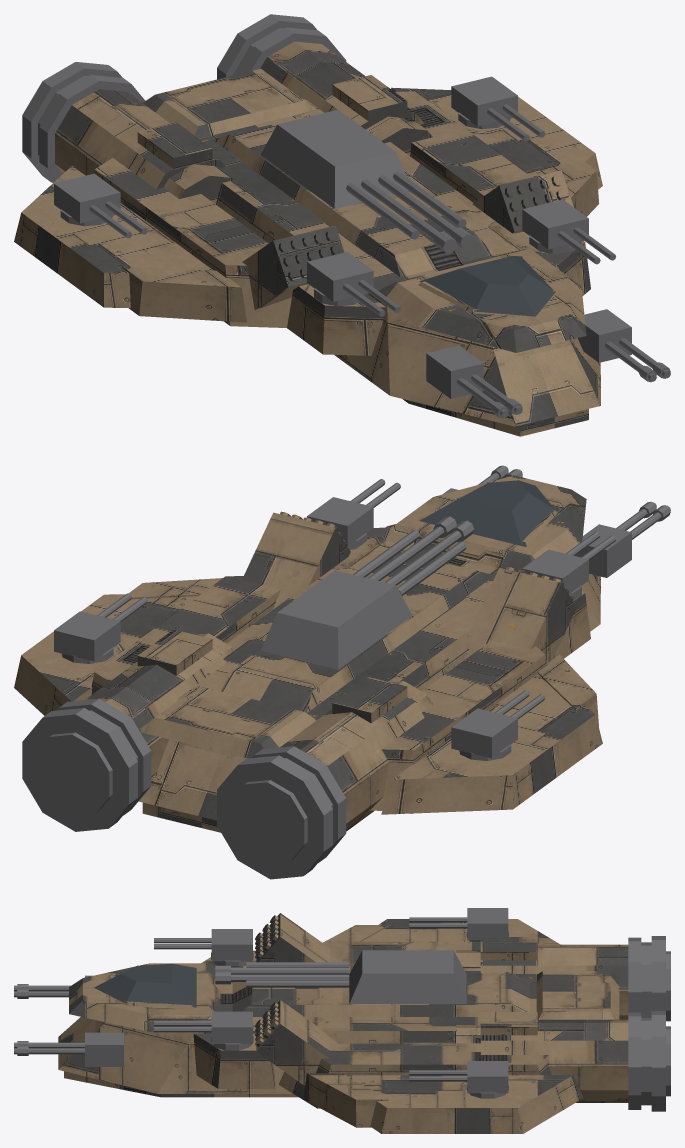
Rendered from breaker.glb.
3 renders of one model, top to bottom at view 1: azimuth 30°, elevation 25°; view 2: azimuth 150°, elevation 25°; view 3: azimuth 270°, elevation 25°, orthographic. The views are drawn at different scales.
Parts seen in each view (by area): view 1: Breaker_Hull, Breaker_Wing_P, Breaker_Sponson_P, Breaker_NosePlate, Breaker_Deck, Breaker_BatteryHouse, Breaker_Nacelle_L, Breaker_SternPlate, Breaker_Sponson_S, Breaker_WingEdge_P, Breaker_Nozzle_L, Breaker_Wing_S (+21 smaller); view 2: Breaker_Hull, Breaker_Wing_P, Breaker_Nozzle_R, Breaker_Nozzle_L, Breaker_Deck, Breaker_BatteryHouse, Breaker_Sponson_P, Breaker_Nacelle_L, Breaker_SternPlate, Breaker_Pod_P, Breaker_Wing_S, Breaker_NosePlate (+16 smaller); view 3: Breaker_Hull, Breaker_Wing_S, Breaker_Nacelle_R, Breaker_Deck, Breaker_BatteryHouse, Breaker_Sponson_S, Breaker_NosePlate, Breaker_SternPlate, Breaker_Nozzle_R, Breaker_Pod_S, Breaker_Nacelle_L, Breaker_Canopy (+20 smaller).
Boxes of the visible parts, box(x1,y1,x2,y2) form: Breaker_Hull: box(199, 98, 600, 426); Breaker_Wing_P: box(14, 166, 213, 307); Breaker_Sponson_P: box(93, 158, 291, 327); Breaker_NosePlate: box(378, 249, 586, 352); Breaker_Deck: box(212, 114, 494, 277); Breaker_BatteryHouse: box(260, 109, 408, 208); Breaker_Nacelle_L: box(55, 89, 225, 189); Breaker_SternPlate: box(143, 69, 316, 138); Breaker_Sponson_S: box(395, 91, 531, 202); Breaker_WingEdge_P: box(121, 266, 246, 322); Breaker_Nozzle_L: box(22, 62, 145, 182); Breaker_Wing_S: box(391, 87, 602, 189); Breaker_Hull: box(138, 524, 600, 820); Breaker_Wing_P: box(381, 674, 602, 814); Breaker_Nozzle_R: box(22, 698, 151, 831); Breaker_Nozzle_L: box(217, 746, 346, 879); Breaker_Deck: box(213, 552, 494, 713); Breaker_BatteryHouse: box(260, 570, 412, 669); Breaker_Sponson_P: box(370, 640, 547, 810); Breaker_Nacelle_L: box(280, 697, 424, 831); Breaker_SternPlate: box(140, 686, 316, 758); Breaker_Pod_P: box(466, 567, 576, 662); Breaker_Wing_S: box(14, 594, 197, 715); Breaker_NosePlate: box(377, 475, 586, 571); Breaker_Hull: box(58, 966, 537, 1093); Breaker_Wing_S: box(346, 1075, 583, 1133); Breaker_Nacelle_R: box(480, 1019, 628, 1102); Breaker_Deck: box(232, 973, 530, 1016); Breaker_BatteryHouse: box(349, 950, 466, 1003); Breaker_Sponson_S: box(279, 1043, 551, 1108); Breaker_NosePlate: box(69, 963, 219, 1032); Breaker_SternPlate: box(536, 971, 619, 1019); Breaker_Nozzle_R: box(628, 1011, 670, 1111); Breaker_Pod_S: box(255, 1000, 337, 1085); Breaker_Nacelle_L: box(480, 944, 628, 1019); Breaker_Canopy: box(94, 963, 196, 1007).
Bounding box in the file's own units: 6.4 × 1.68 × 9.26.
Materials: 3 (1 with a texture image).
